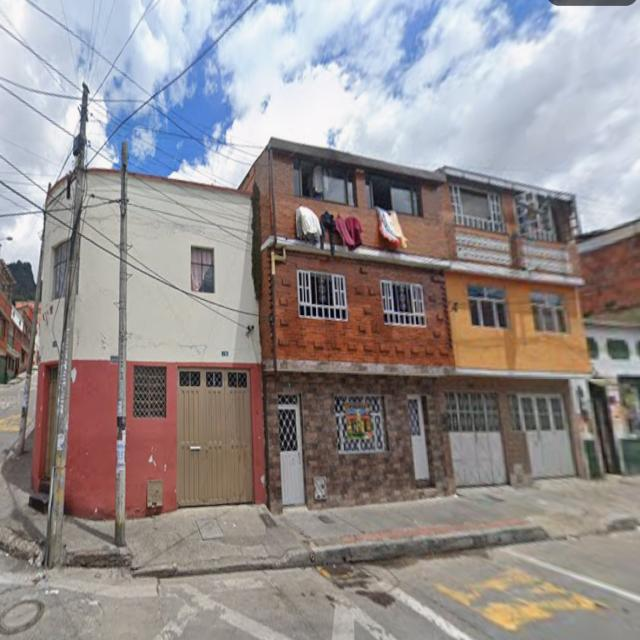fachada: (241, 140, 590, 509), (126, 175, 265, 516), (578, 221, 639, 473), (0, 260, 21, 383), (15, 301, 34, 371)
poste: (45, 84, 88, 568), (17, 208, 46, 455), (115, 141, 127, 546)
